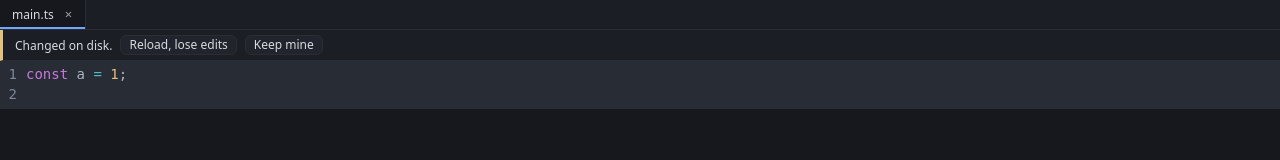
it: Keep mine dismisses the changed-on-disk bar
Expected: the field with class "cm-content" is shown, [26,66,127,82]
Click the button "Keep mine" at (284, 45), box [245,35,323,55]
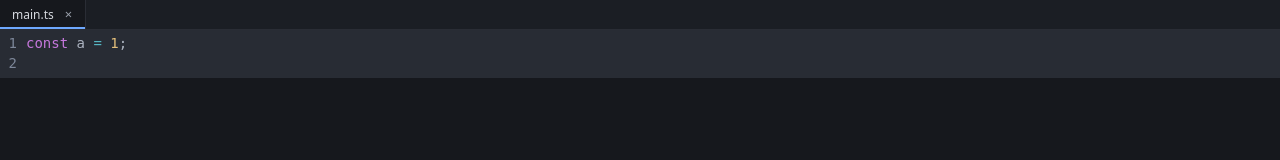
Expected: the message "Changed on disk. Reload, lose edits Keep mine" is gone
